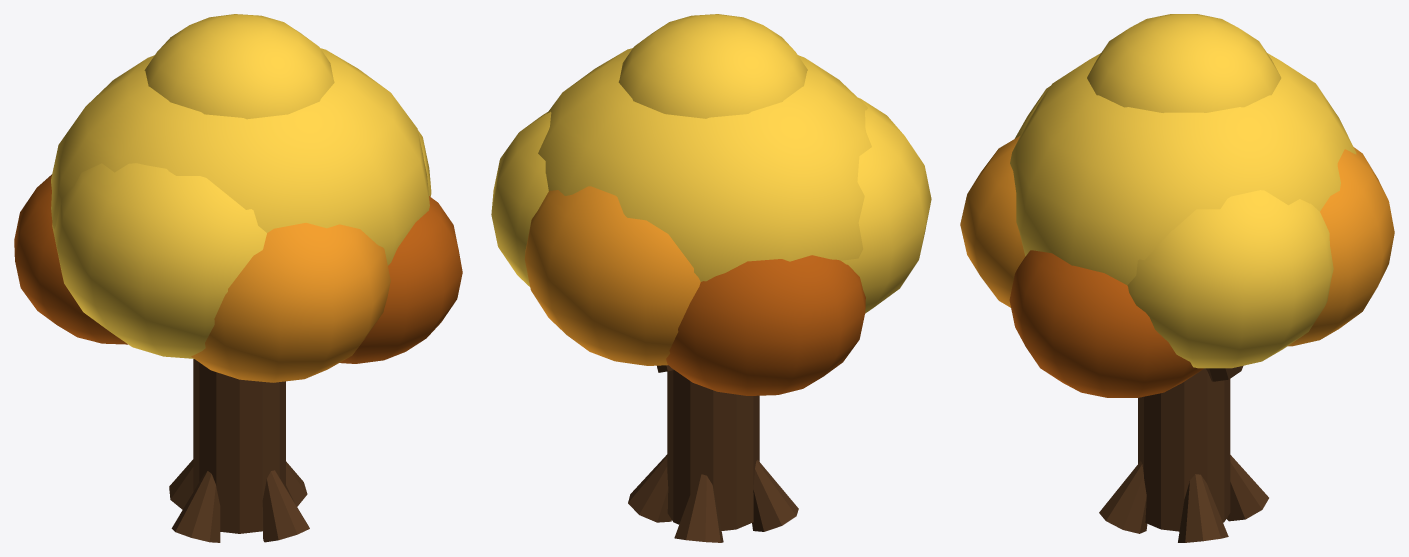
The model's file is tree_autumn.glb.
3 renders of one model, left to right at view 1: azimuth 30°, elevation 25°; view 2: azimuth 150°, elevation 25°; view 3: azimuth 270°, elevation 25°, orthographic.
Parts seen in each view (by area): view 1: FoliagePuff_0, FoliagePuff_2, FoliagePuff_4, FoliagePuff_7, TrunkBase, FoliagePuff_5, FoliagePuff_6, Root_2, Root_3, Root_1, Root_0; view 2: FoliagePuff_0, FoliagePuff_3, FoliagePuff_6, FoliagePuff_7, TrunkBase, FoliagePuff_2, FoliagePuff_1, Root_1, Root_2, Root_0; view 3: FoliagePuff_0, FoliagePuff_1, FoliagePuff_5, FoliagePuff_7, TrunkBase, FoliagePuff_3, FoliagePuff_4, Root_0, Root_3, Root_1.
Part boxes in pixels (x1,y1,x2,y2): FoliagePuff_0: (51, 48, 429, 265); FoliagePuff_2: (52, 163, 266, 358); FoliagePuff_4: (191, 223, 390, 382); FoliagePuff_7: (144, 14, 334, 119); TrunkBase: (193, 359, 285, 533); FoliagePuff_5: (340, 196, 462, 363); FoliagePuff_6: (14, 174, 127, 344); Root_2: (171, 471, 220, 542); Root_3: (262, 470, 309, 542); Root_1: (169, 459, 193, 509); Root_0: (286, 461, 307, 506); FoliagePuff_0: (538, 48, 871, 281); FoliagePuff_3: (524, 186, 700, 365); FoliagePuff_6: (666, 255, 865, 395); FoliagePuff_7: (618, 14, 807, 118); TrunkBase: (667, 370, 759, 530); FoliagePuff_2: (841, 97, 931, 313); FoliagePuff_1: (491, 111, 551, 286); Root_1: (674, 474, 723, 542); Root_2: (752, 460, 798, 531); Root_0: (628, 454, 671, 522); FoliagePuff_0: (1010, 53, 1356, 285); FoliagePuff_1: (1127, 190, 1333, 368); FoliagePuff_5: (1009, 250, 1203, 397); FoliagePuff_7: (1087, 14, 1281, 112); TrunkBase: (1138, 368, 1230, 531); FoliagePuff_3: (1288, 147, 1394, 346); FoliagePuff_4: (960, 136, 1025, 307); Root_0: (1178, 474, 1228, 542); Root_3: (1099, 461, 1147, 533); Root_1: (1226, 455, 1268, 521).
Bounding box in the file's own units: 3.96 × 5.09 × 4.02.
